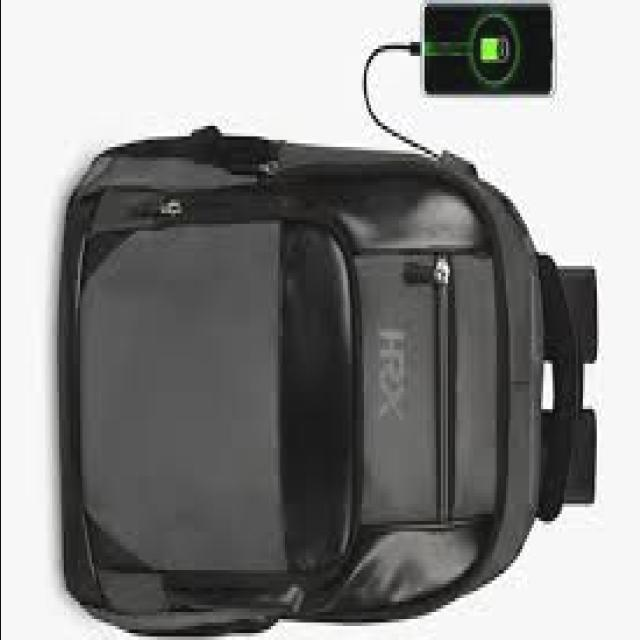backpack: (60, 124, 602, 638)
